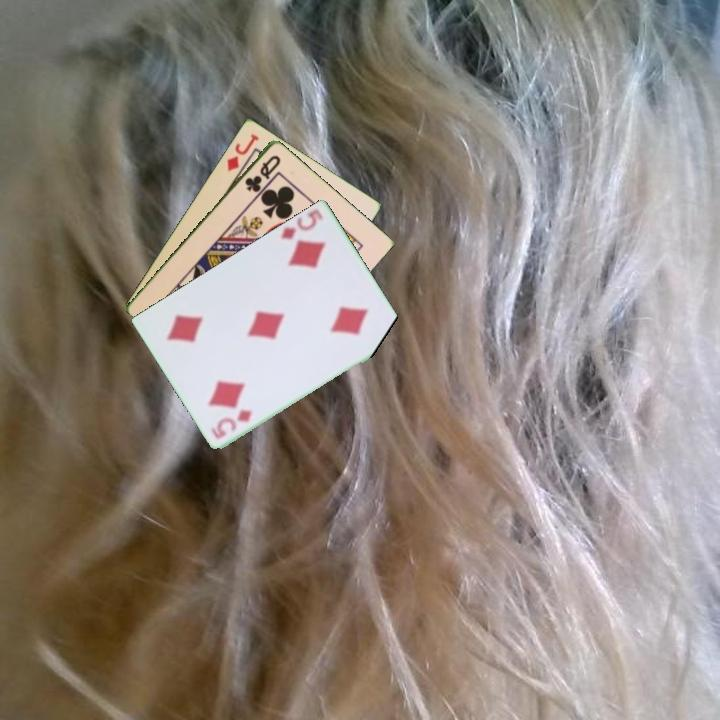5d: (277, 205, 323, 242), (209, 406, 255, 442)
Jd: (223, 130, 262, 174)
Qc: (241, 151, 284, 195)
